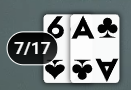6: (41, 12, 70, 40)
a: (67, 11, 95, 43)
